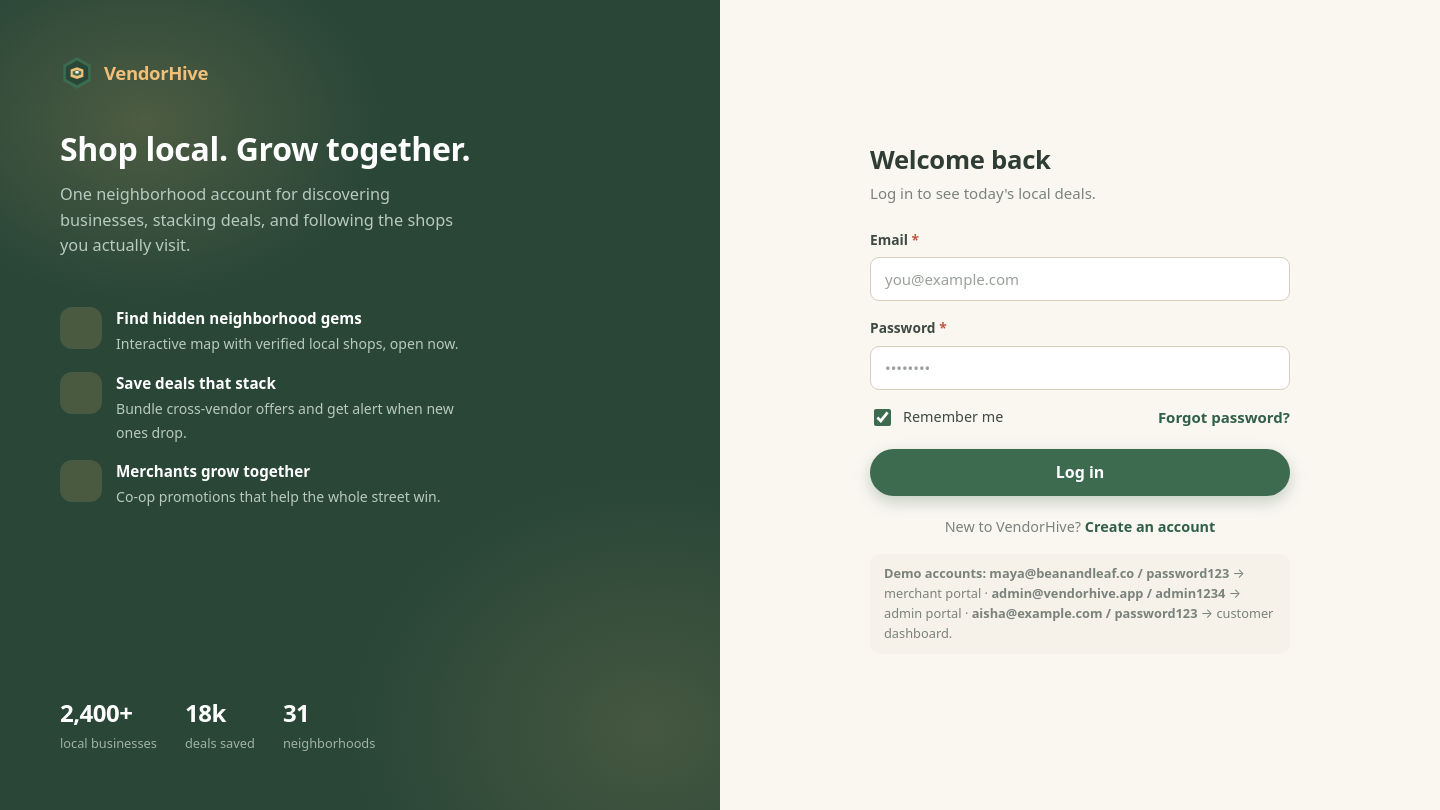
Test: Login page › shows a validation error for empty fields
Click the button "Log in" at (1080, 472), box [870, 449, 1290, 496]
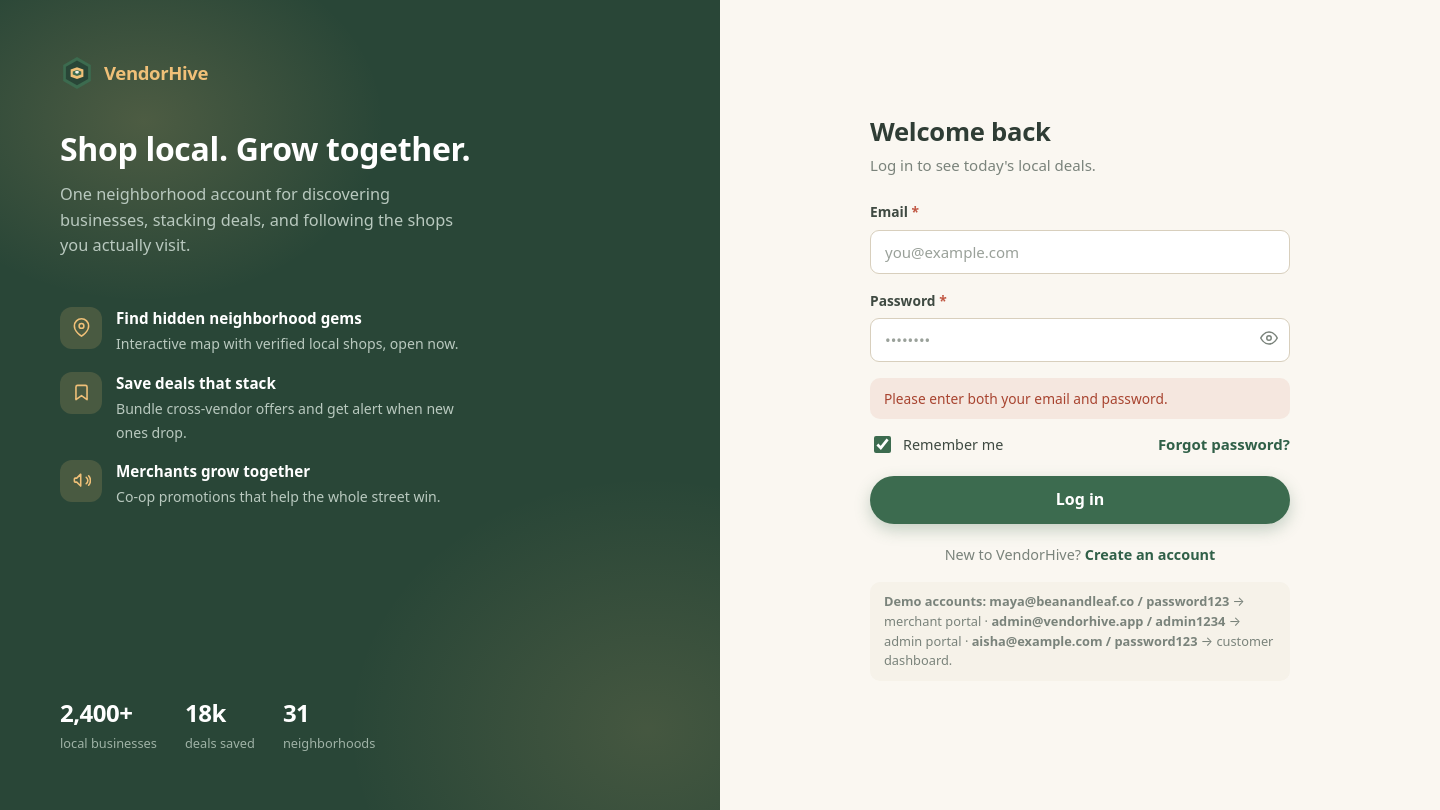
Expected: the text "Please enter both your email and password." is shown, [870, 378, 1290, 419]
